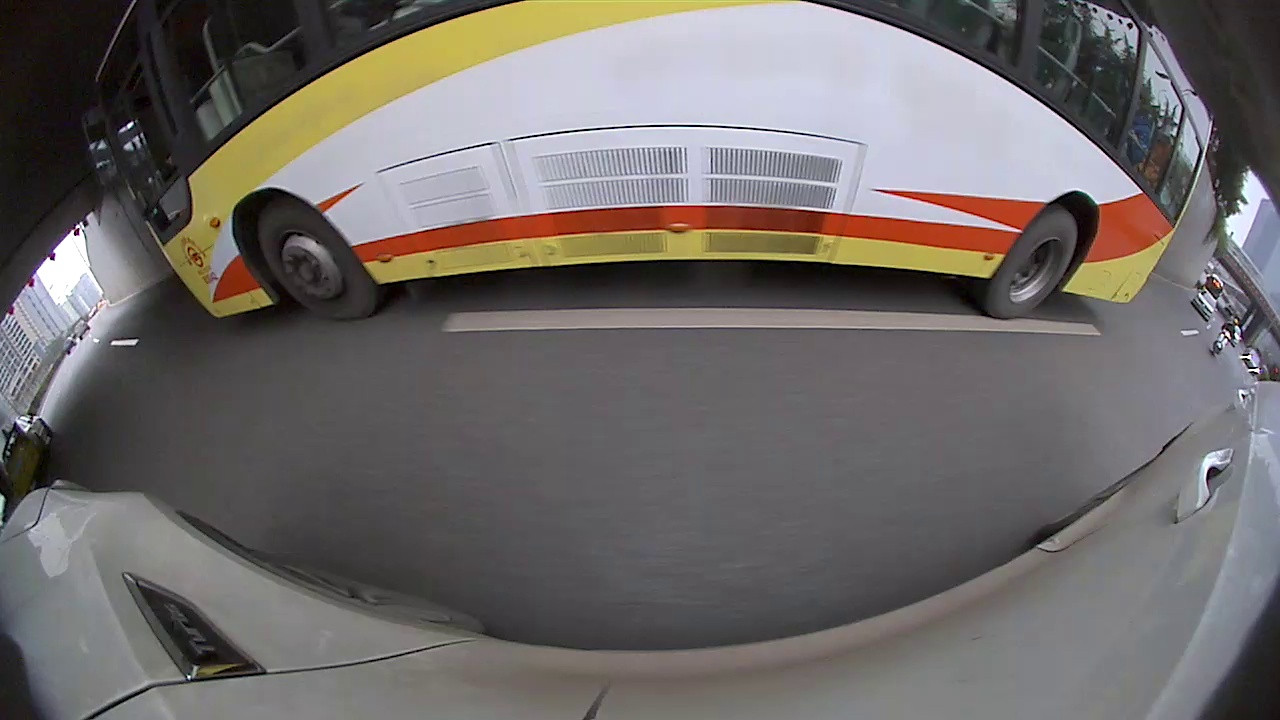bus: (793, 125, 846, 194)
car: (905, 142, 1278, 469), (0, 303, 189, 509), (316, 117, 523, 257), (754, 153, 822, 208), (523, 152, 582, 195)
front: (39, 384, 143, 509), (916, 215, 975, 285), (506, 187, 522, 217)
rear: (1153, 351, 1255, 475), (432, 203, 464, 247)
truck: (543, 0, 802, 218)
